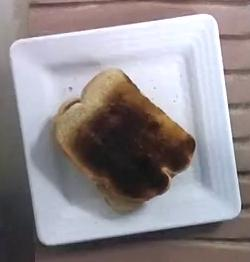toast: (54, 68, 195, 213)
